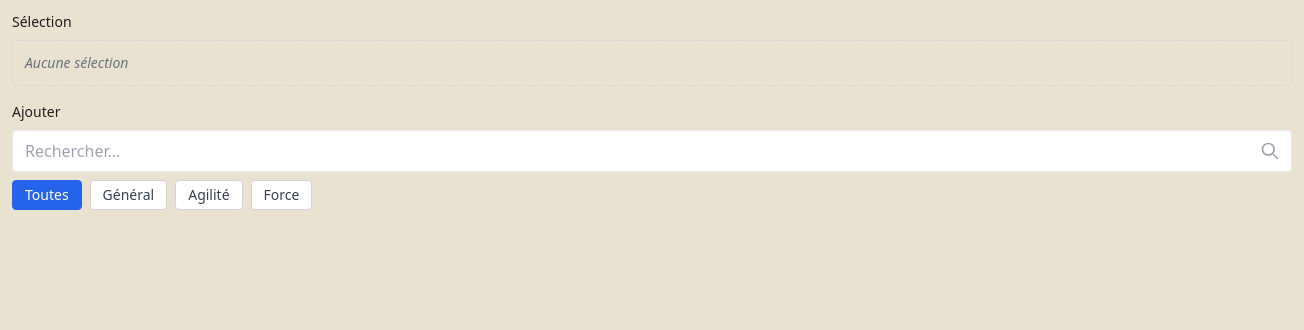
Scenario: ChipMultiSelect › filtre les suggestions par la recherche (label, valeur ou sous-libellé)
The width and height of the screenshot is (1304, 330).
Step 1. Type "Dodge" into the field with test id "pick-search" → (652, 151), box top-left (12, 130), bottom-right (1292, 172)
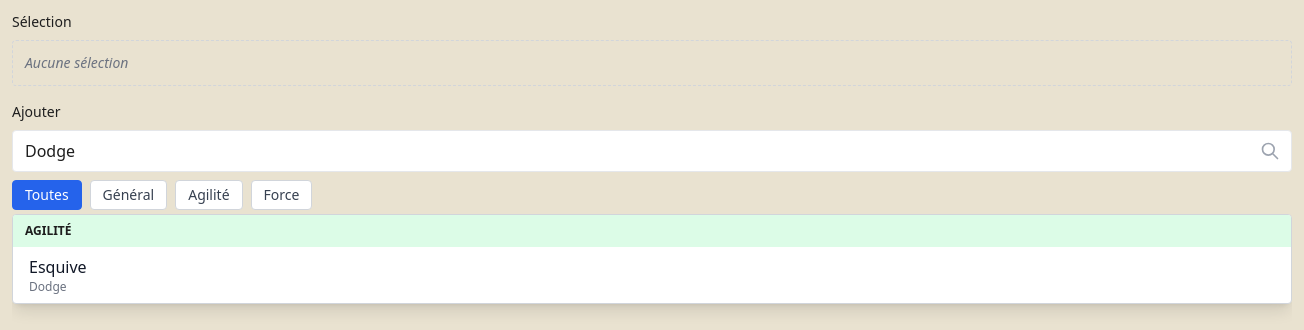
Check: the button with test id "pick-option-dodge" is shown, box top-left (13, 247), bottom-right (1291, 303)
